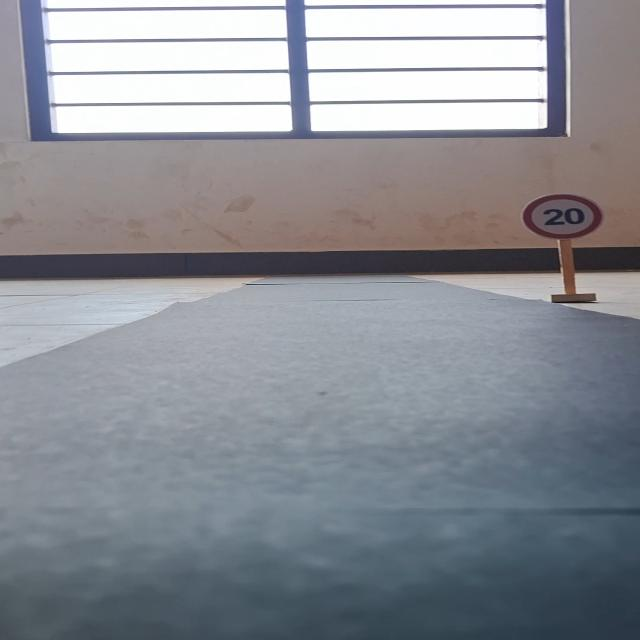Speed20: (514, 192, 607, 242)
